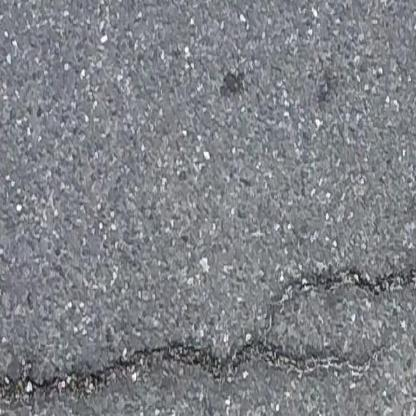Cracks: (0, 268, 416, 404)
